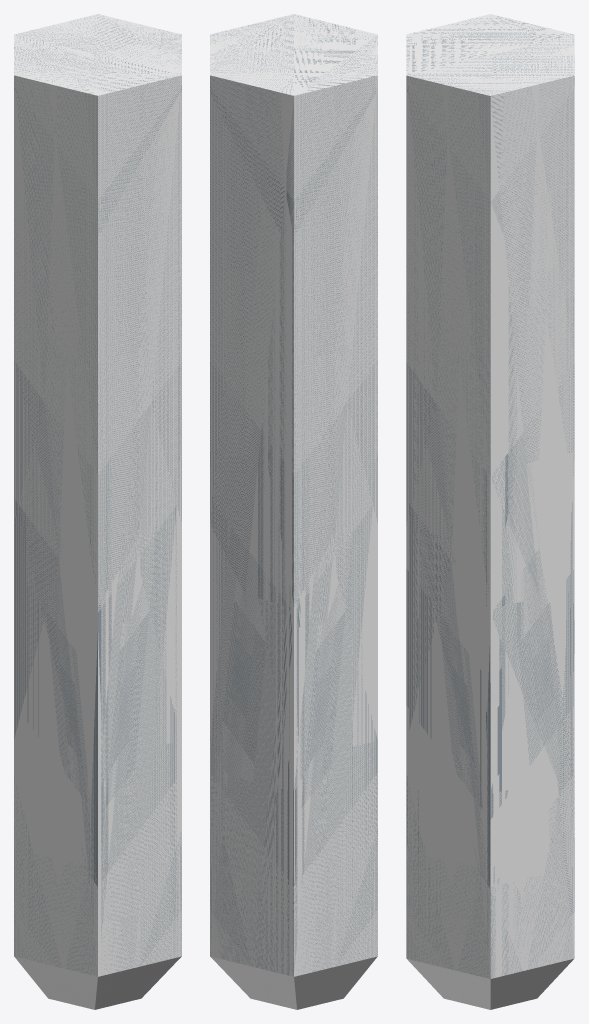
File: TestTube_Liquid.obj
3 renders of one model, left to right at view 1: azimuth 30°, elevation 25°; view 2: azimuth 150°, elevation 25°; view 3: azimuth 270°, elevation 25°, orthographic.
Parts seen in each view (by area): view 1: Mesh1 Model; view 2: Mesh1 Model; view 3: Mesh1 Model.
Part boxes in pixels (x1,y1,x2,y2): Mesh1 Model: (14,14,181,1009); Mesh1 Model: (210,14,377,1009); Mesh1 Model: (406,14,574,1009).
Bounding box in the file's own units: 0.0192 × 0.1019 × 0.0166.
